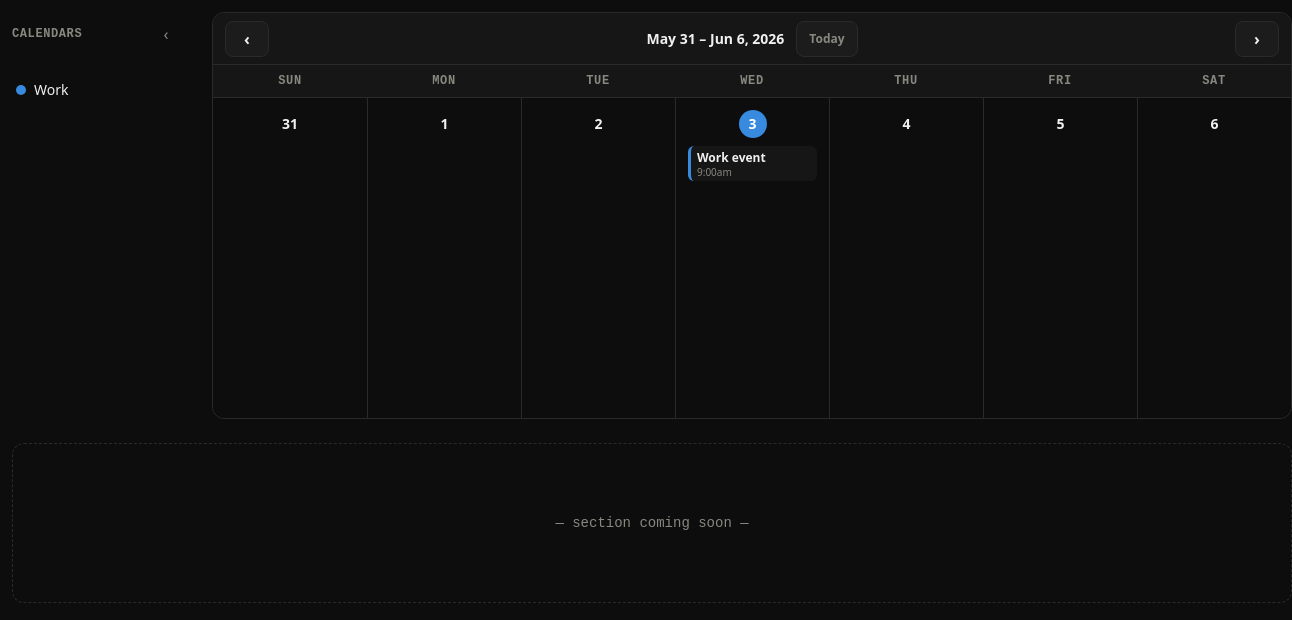
calendar filter › restores events when calendar is toggled back on
Click the button "Work" at [100, 90], box [12,68,188,112]
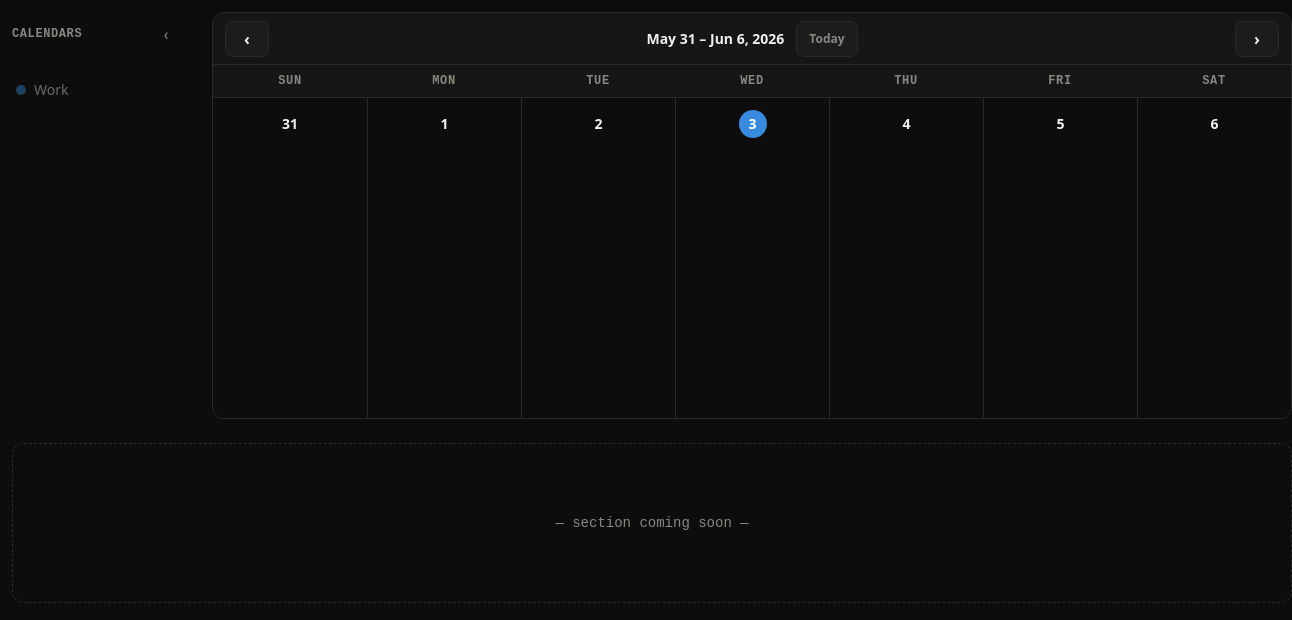
Click the button "Work" at [100, 90], box [12,68,188,112]
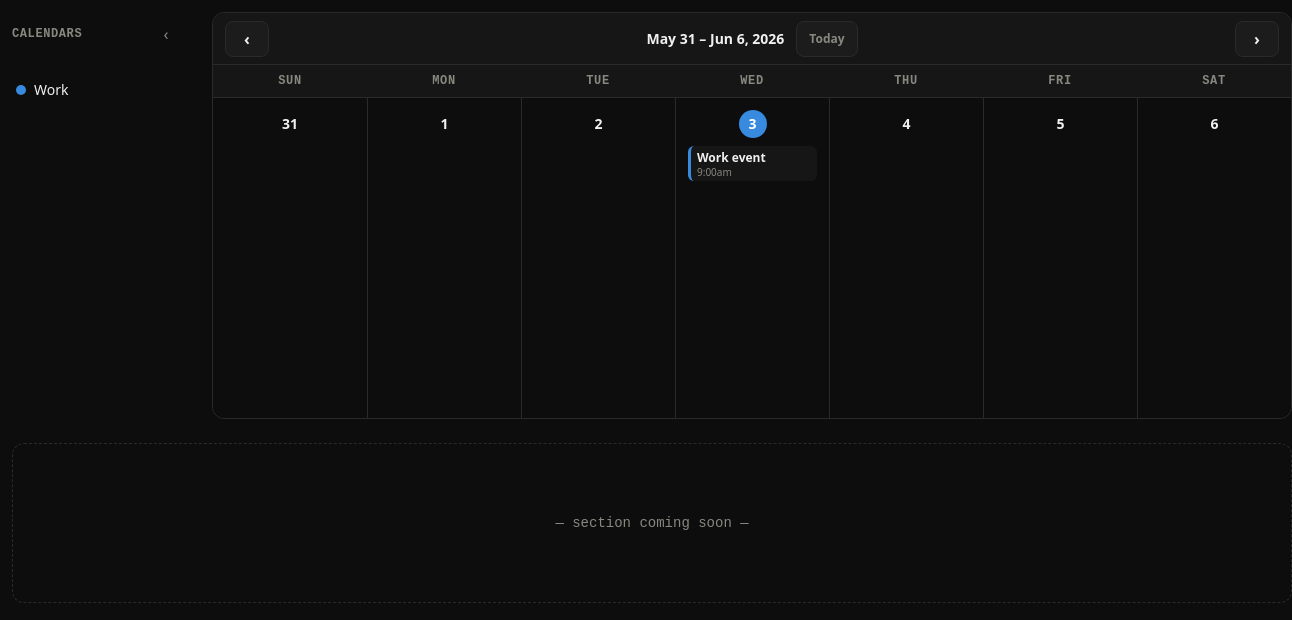
Check: the text "Work event" is shown, box [697,149,766,166]
